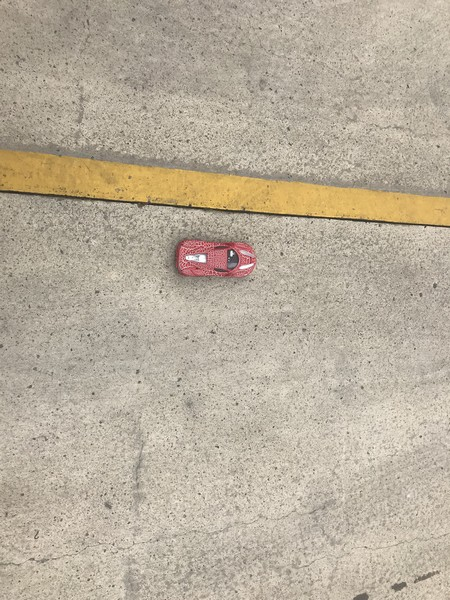RC: (175, 238, 257, 280)
